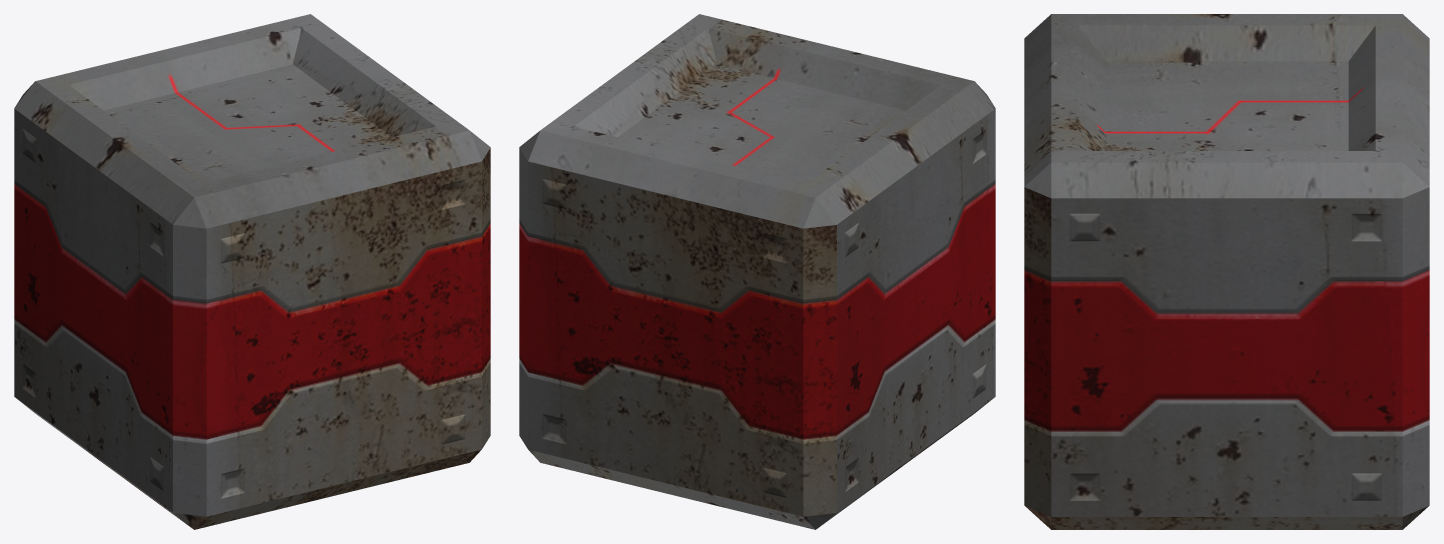
The picture shows the model from 3 angles, left to right: view 1: azimuth 30°, elevation 25°; view 2: azimuth 150°, elevation 25°; view 3: azimuth 270°, elevation 25°; orthographic projection. The views are drawn at different scales.
Visible parts, largest first — view 1: Box01; view 2: Box01; view 3: Box01.
Boxes of the visible parts, x1=… form: Box01: x1=14, y1=14, x2=490, y2=529; Box01: x1=519, y1=14, x2=995, y2=529; Box01: x1=1024, y1=14, x2=1429, y2=529.
Bounding box in the file's own units: 9.38 × 9.38 × 9.38.
